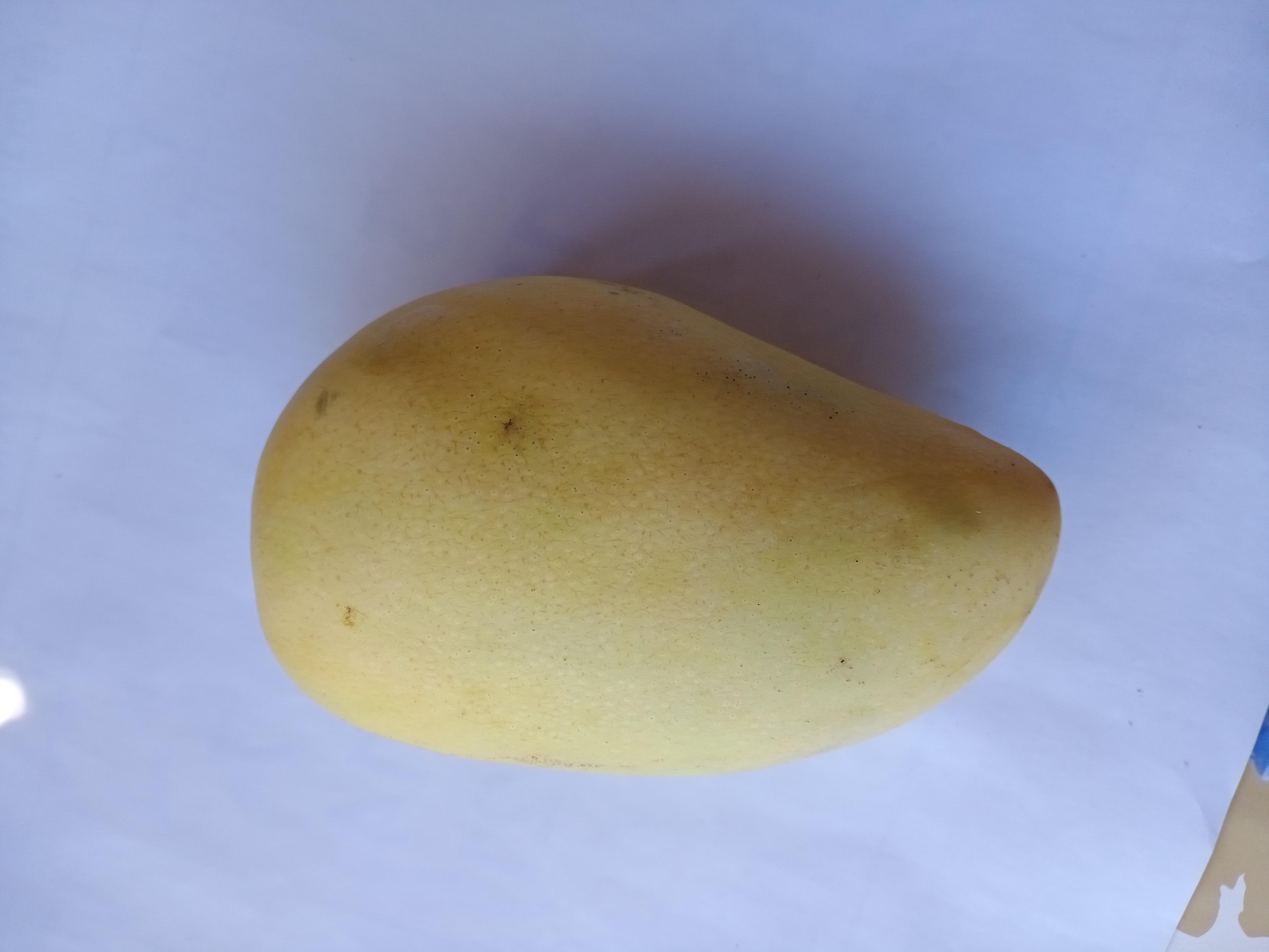Mango Ripe: (179, 251, 1107, 813)
